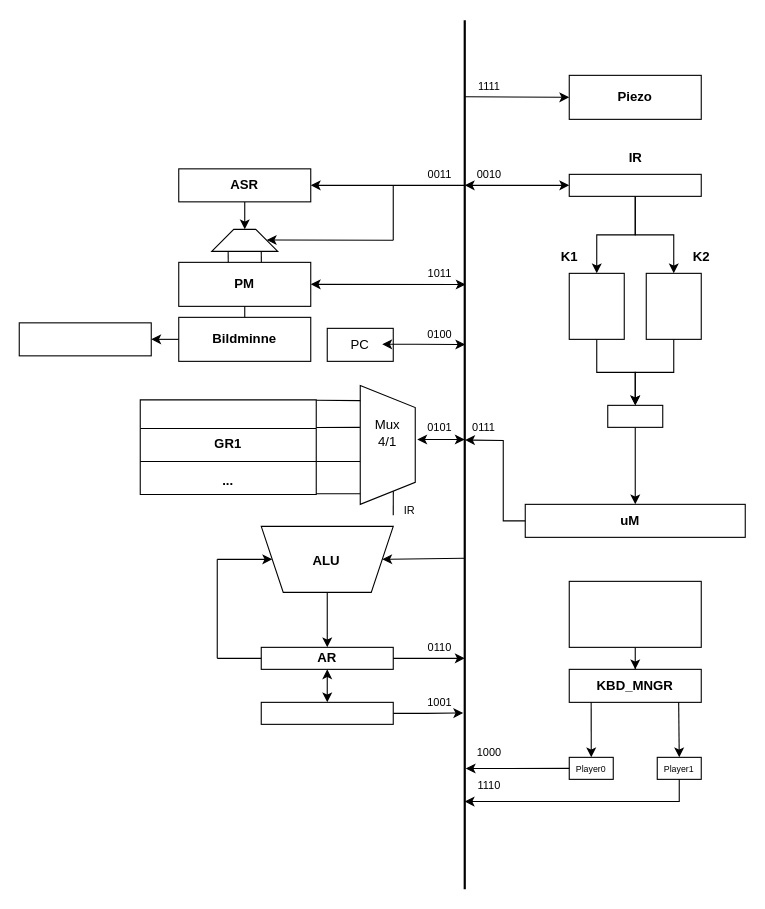
Some shapes in this 765 by 909 pixel diagram are drawn without their labels. Each missing label, with the box of its shape:
GR0: (139, 399, 316, 494)
KBD_ENC: (568, 580, 701, 647)
Mux 2/1: (211, 228, 278, 251)
SR: (260, 701, 393, 724)
uPc: (607, 404, 663, 427)
VGA-motor: (18, 322, 151, 356)
